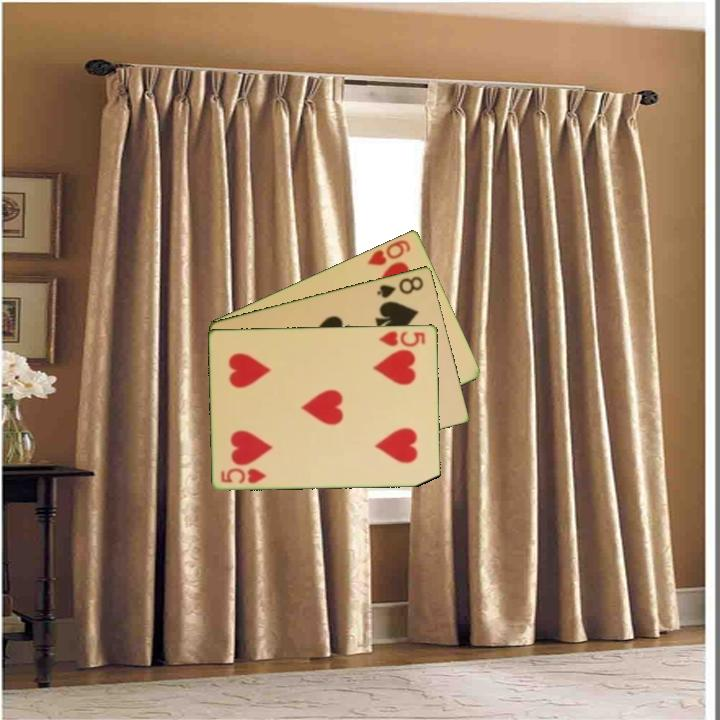5h: (375, 327, 428, 349), (218, 465, 269, 486)
6h: (364, 236, 414, 268)
8s: (373, 272, 426, 301)
